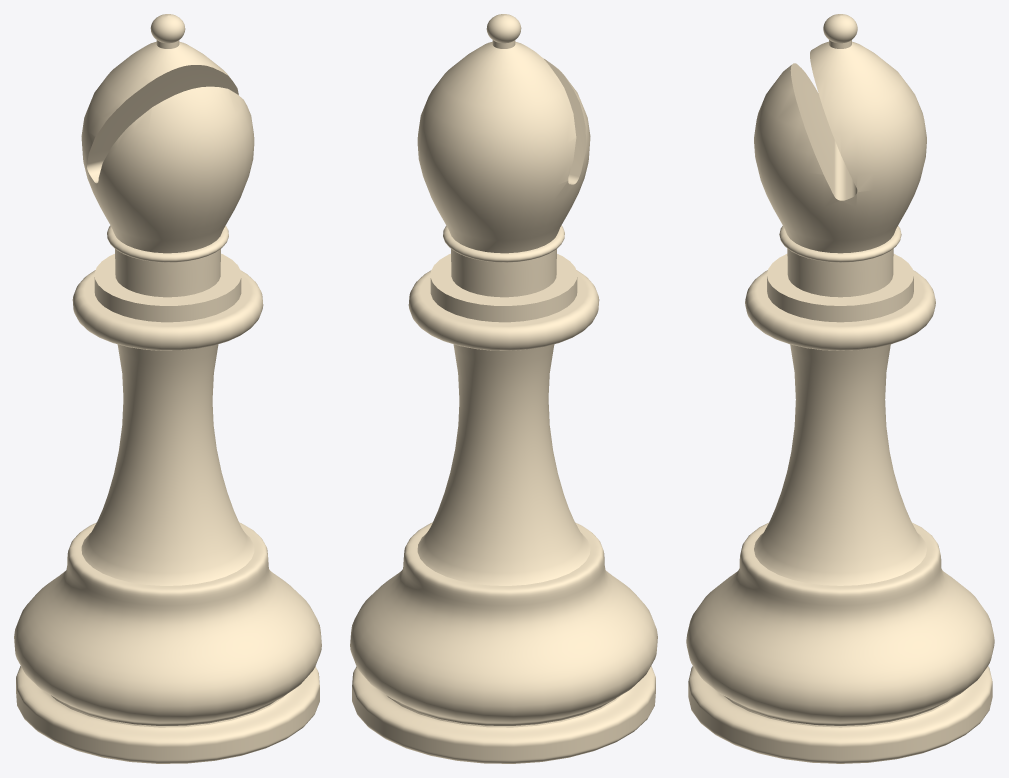
File: Bishop.fbx
3 views of the same model, side by side, from view 1: azimuth 30°, elevation 25°; view 2: azimuth 150°, elevation 25°; view 3: azimuth 270°, elevation 25° (orthographic).
Parts seen in each view (by area): view 1: Bishop; view 2: Bishop; view 3: Bishop.
Boxes of the visible parts, x1,y1,x2,y2 form: Bishop: (14,14,321,763); Bishop: (350,14,657,763); Bishop: (686,14,994,763).
Bounding box in the file's own units: 53.66 × 133 × 53.66.
